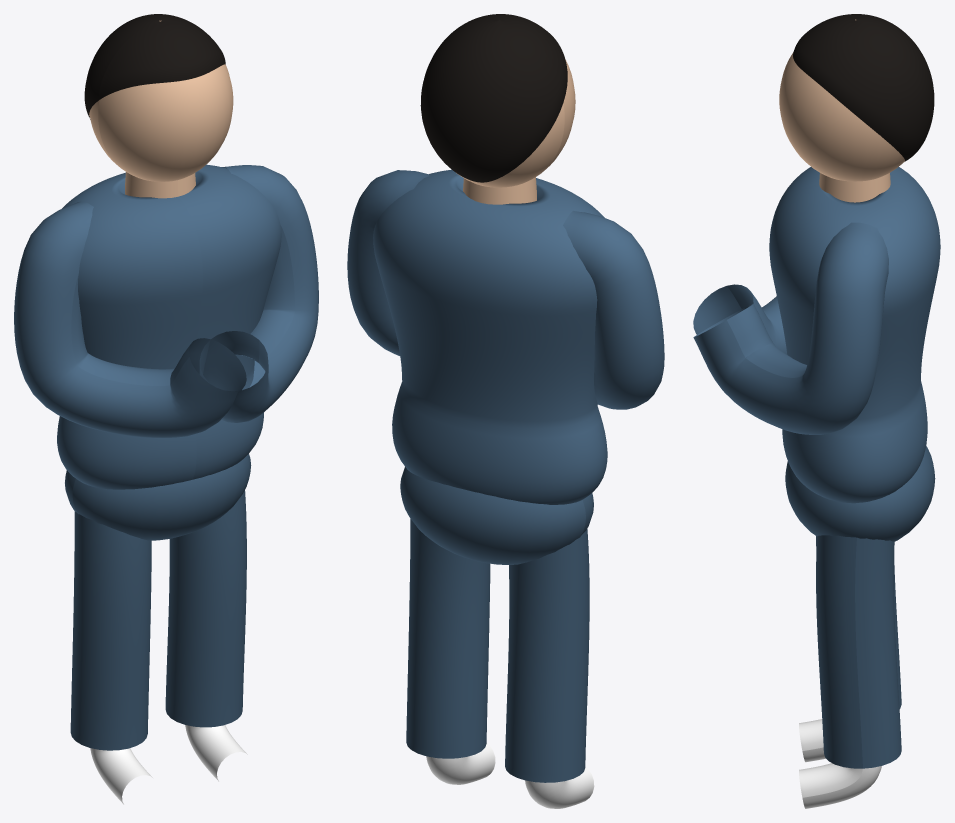
File: devotee.glb
3 views of the same model, side by side, from view 1: azimuth 30°, elevation 25°; view 2: azimuth 150°, elevation 25°; view 3: azimuth 270°, elevation 25° (orthographic). The views are drawn at different scales.
Visible parts, largest first — view 1: Devotee_Continuous_Character; view 2: Devotee_Continuous_Character; view 3: Devotee_Continuous_Character.
Boxes of the visible parts, x1,y1,x2,y2 form: Devotee_Continuous_Character: (14,14,318,804); Devotee_Continuous_Character: (347,14,664,808); Devotee_Continuous_Character: (693,14,940,808).
Size of the model in its own units: 0.6511 by 1.6 by 0.47.
